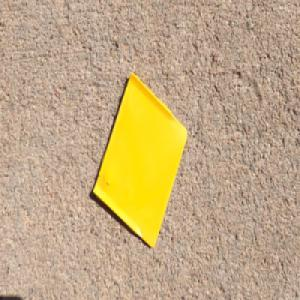PlasticPart: (91, 69, 188, 248)
